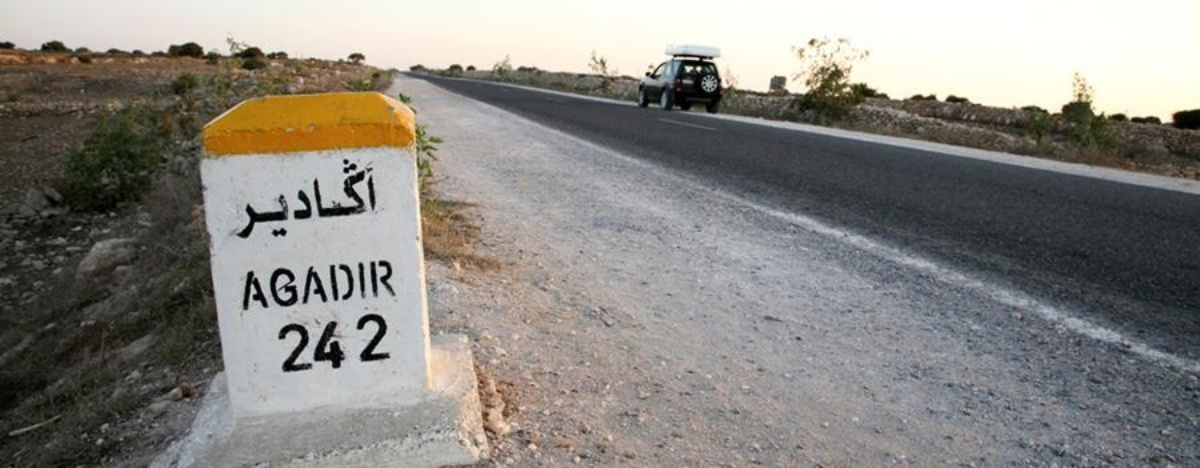text: (241, 151, 256, 245), (257, 151, 272, 245), (273, 151, 288, 245), (289, 151, 304, 245), (305, 151, 320, 245), (321, 151, 336, 245), (337, 151, 352, 245), (353, 151, 368, 245), (369, 151, 384, 245), (241, 255, 256, 314), (257, 255, 272, 314), (273, 255, 288, 314), (289, 255, 304, 314), (305, 255, 320, 314), (321, 255, 336, 314), (337, 255, 352, 314), (353, 255, 368, 314), (369, 255, 384, 314), (289, 319, 304, 374), (305, 319, 320, 374), (321, 319, 336, 374), (369, 313, 384, 363), (275, 319, 288, 374), (385, 255, 397, 314), (337, 319, 347, 374), (357, 313, 368, 363), (385, 313, 391, 363), (237, 151, 240, 245), (237, 255, 240, 314), (385, 151, 386, 245)
